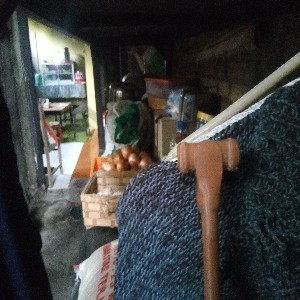palu: (177, 136, 241, 300)
